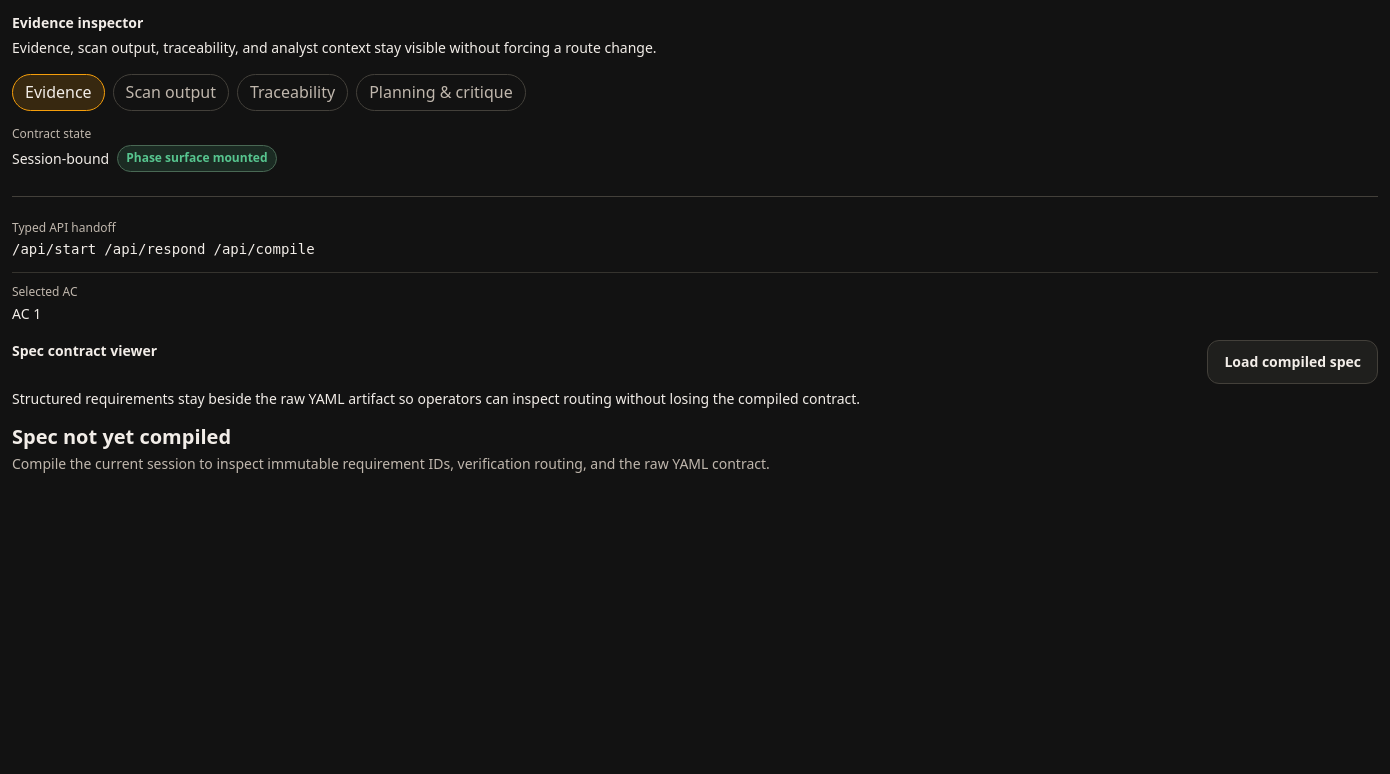
Test: WorkspaceInspector › loads a structured spec contract view, toggles raw yaml, and links back to the originating ac
Expected: the heading "Spec not yet compiled" is shown, [12,423,231,450]
Click the button "Load compiled spec" at x=1293, y=362, box [1207,340,1378,384]
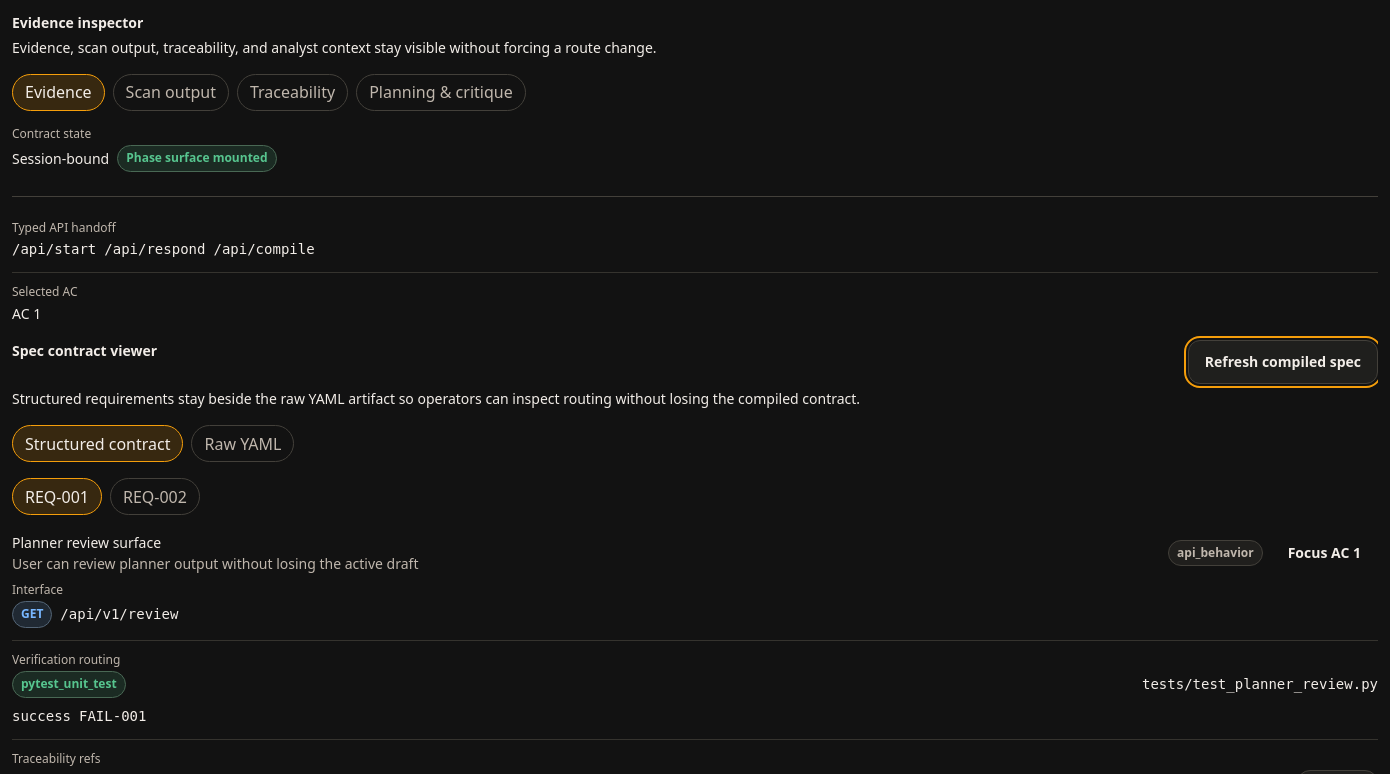
Result: the tab "REQ-001" is shown at [12,478,102,515]
Result: the heading "Planner review surface" is shown at [12,533,161,552]
Result: the text "pytest_unit_test" is shown at [12,671,126,698]
Click the tab "REQ-002" at x=155, y=497, box [110,478,200,515]
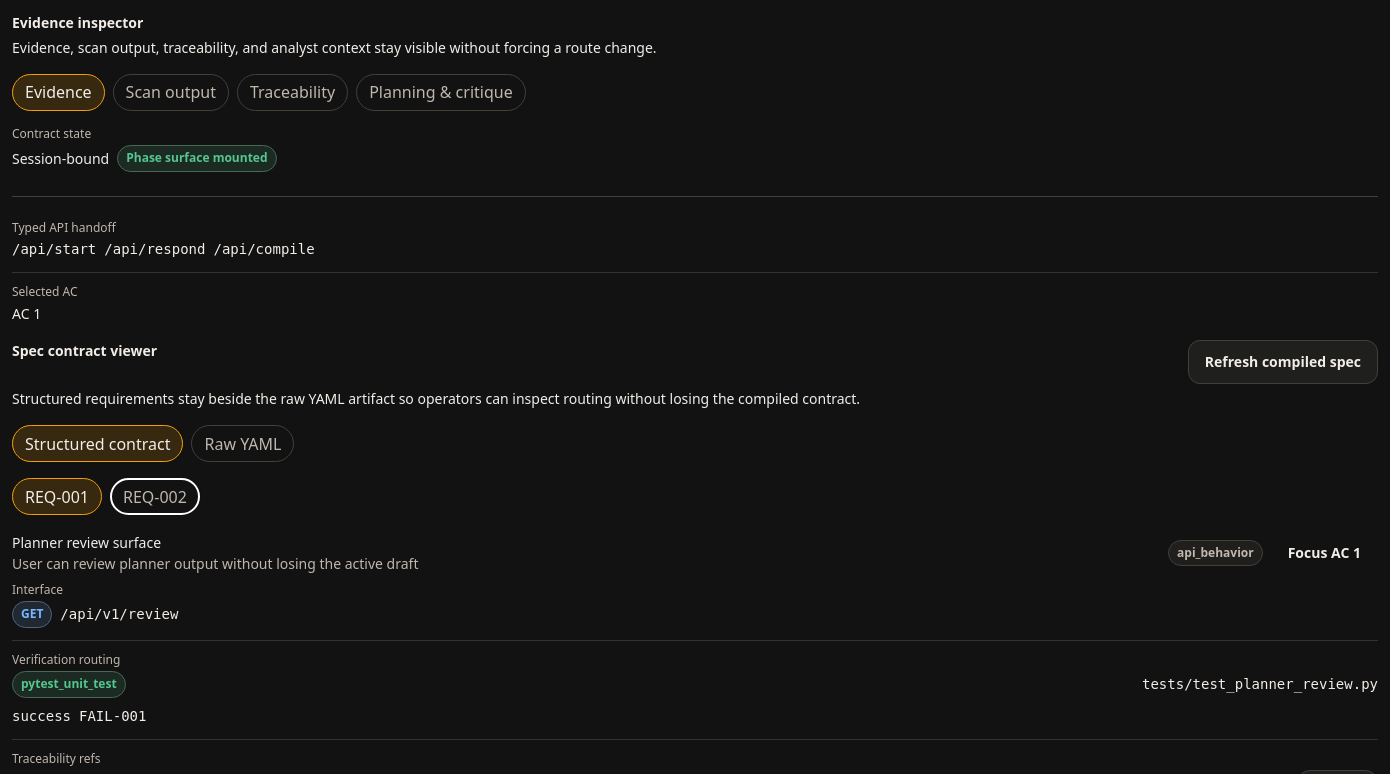
Click the tab "Raw YAML" at x=243, y=444, box [192,425,294,462]
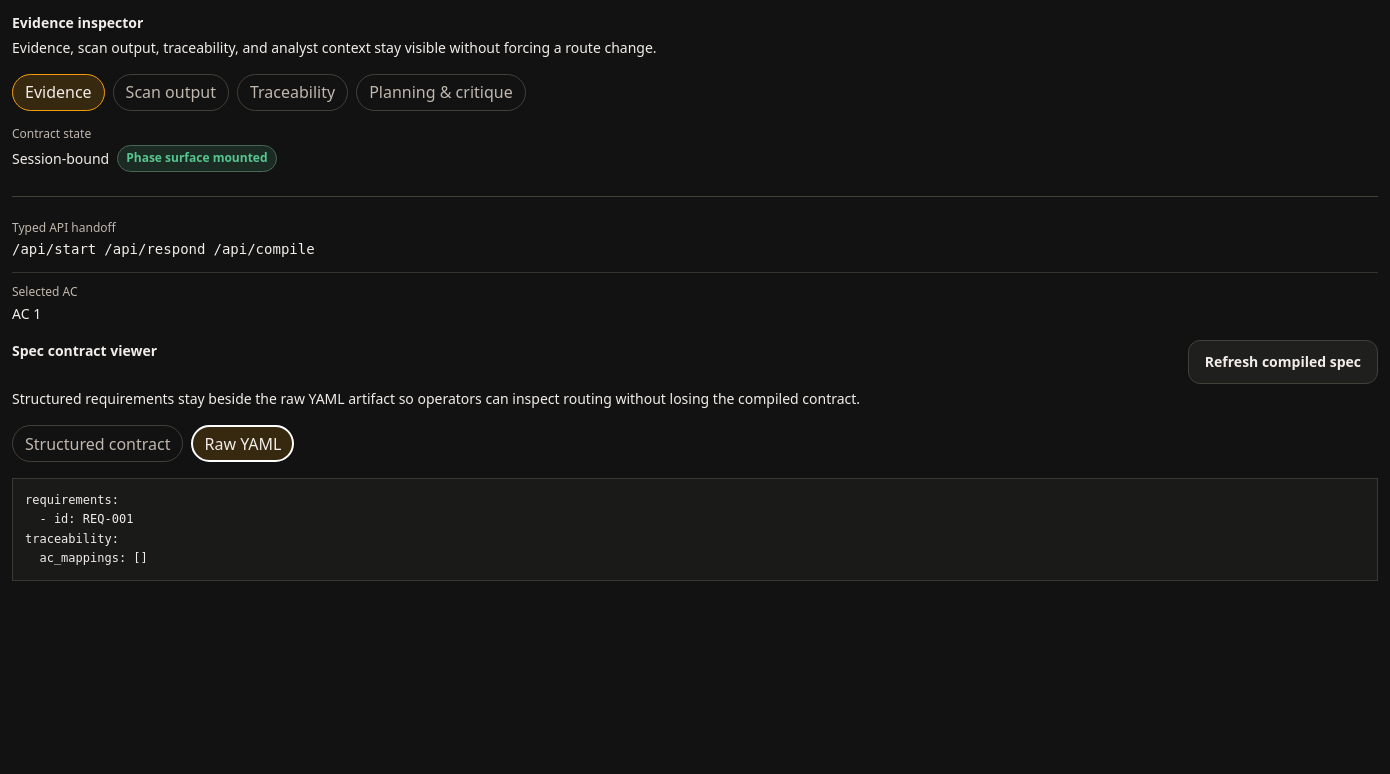
Result: the text "requirements: - id: REQ-001 traceability: ac_mappings: []" is shown at [12,478,1378,581]
